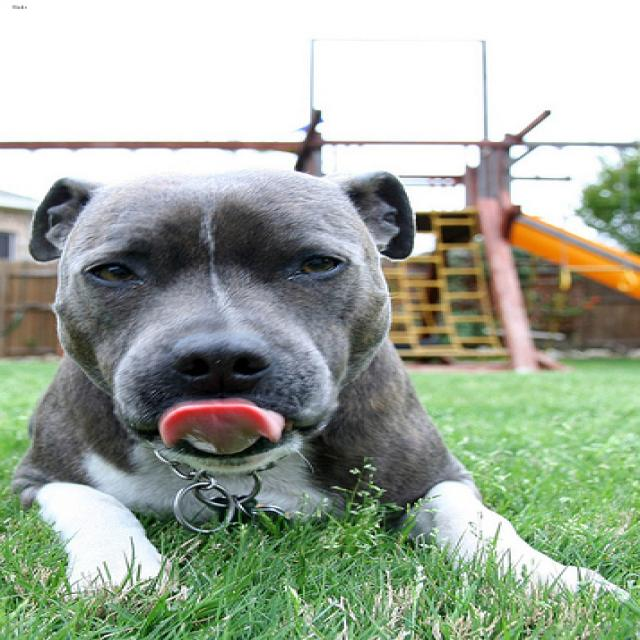dog-staffordshire_bull_terrier: (2, 165, 636, 614)
